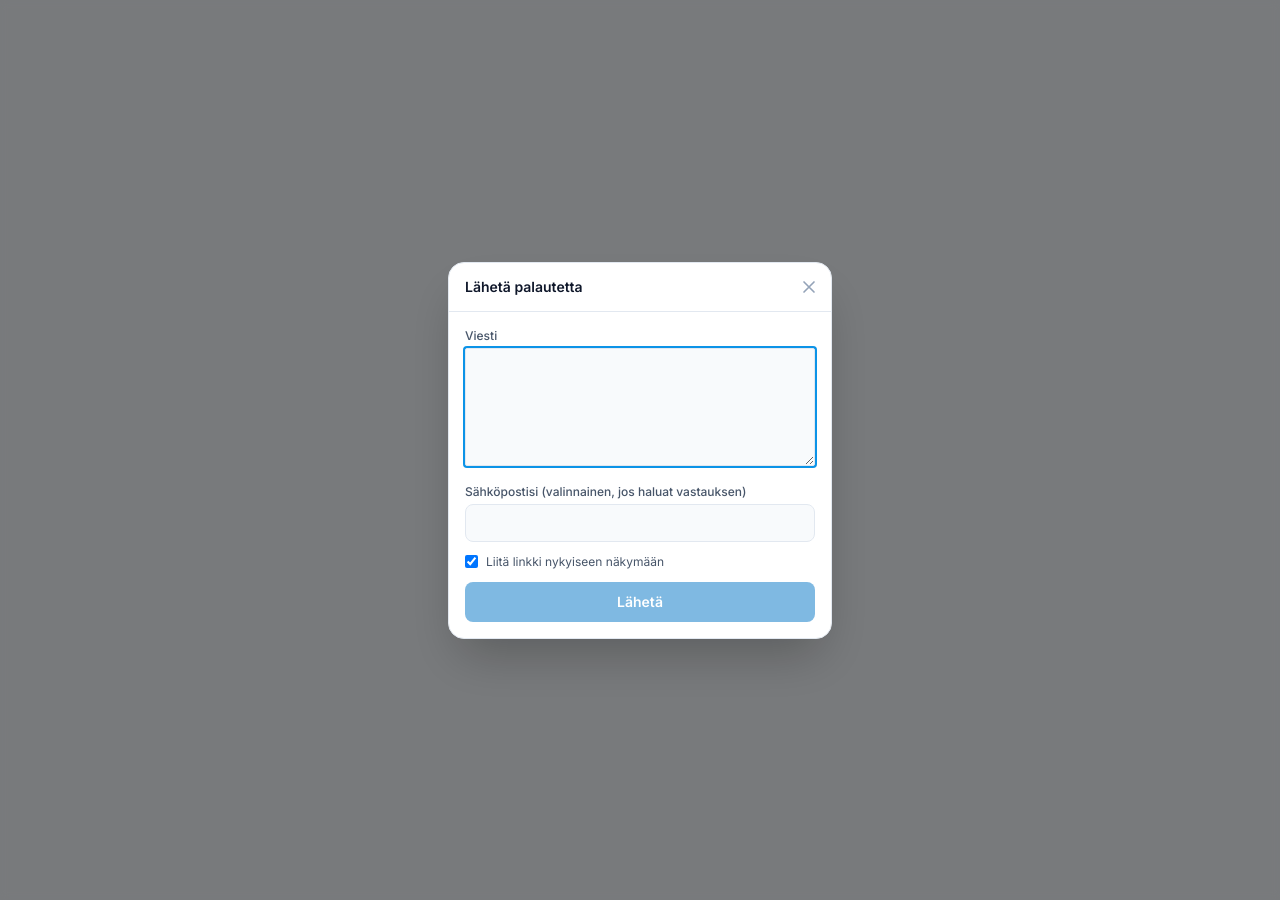
FeedbackModal › sends the message with the page link and the reply address, then thanks
Type "The employment layer looks off" into the text box labelled "Viesti" at (640, 406), box [465, 348, 815, 466]
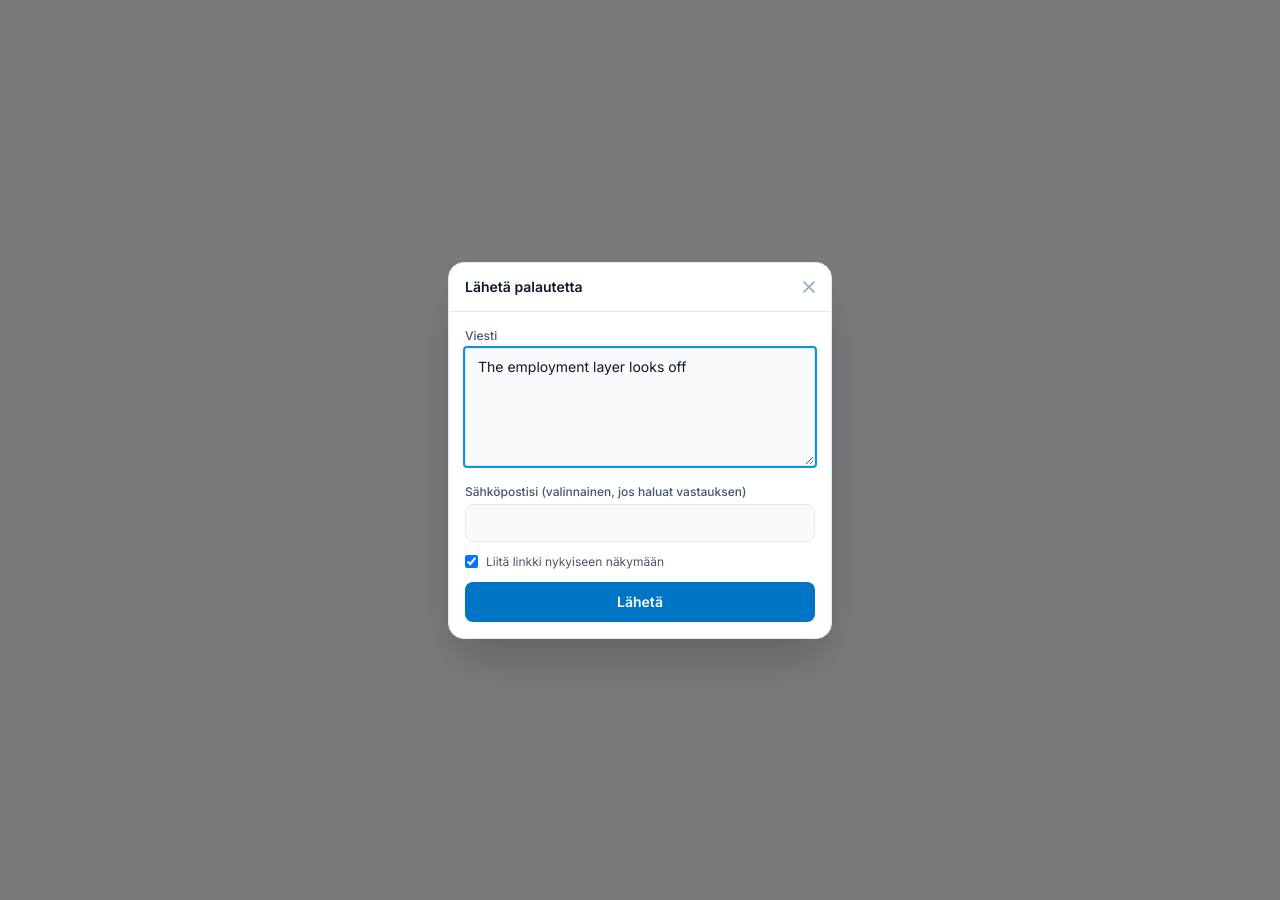
Type "me@example.com" into the field labelled "Sähköpostisi (valinnainen, jos haluat vastauksen)" at (640, 522), box [465, 504, 815, 542]
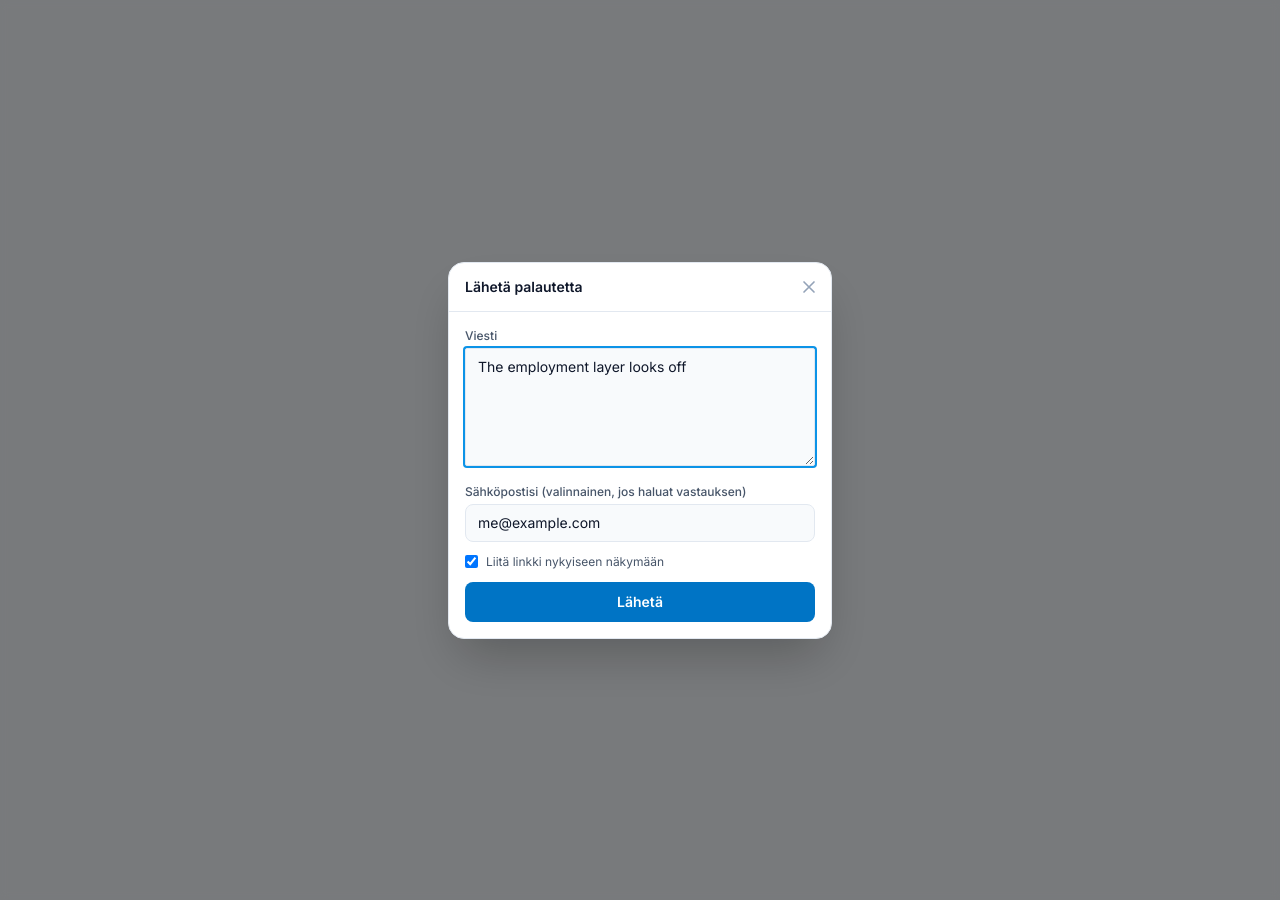
Click the button "Lähetä" at (640, 602), box [465, 582, 815, 622]
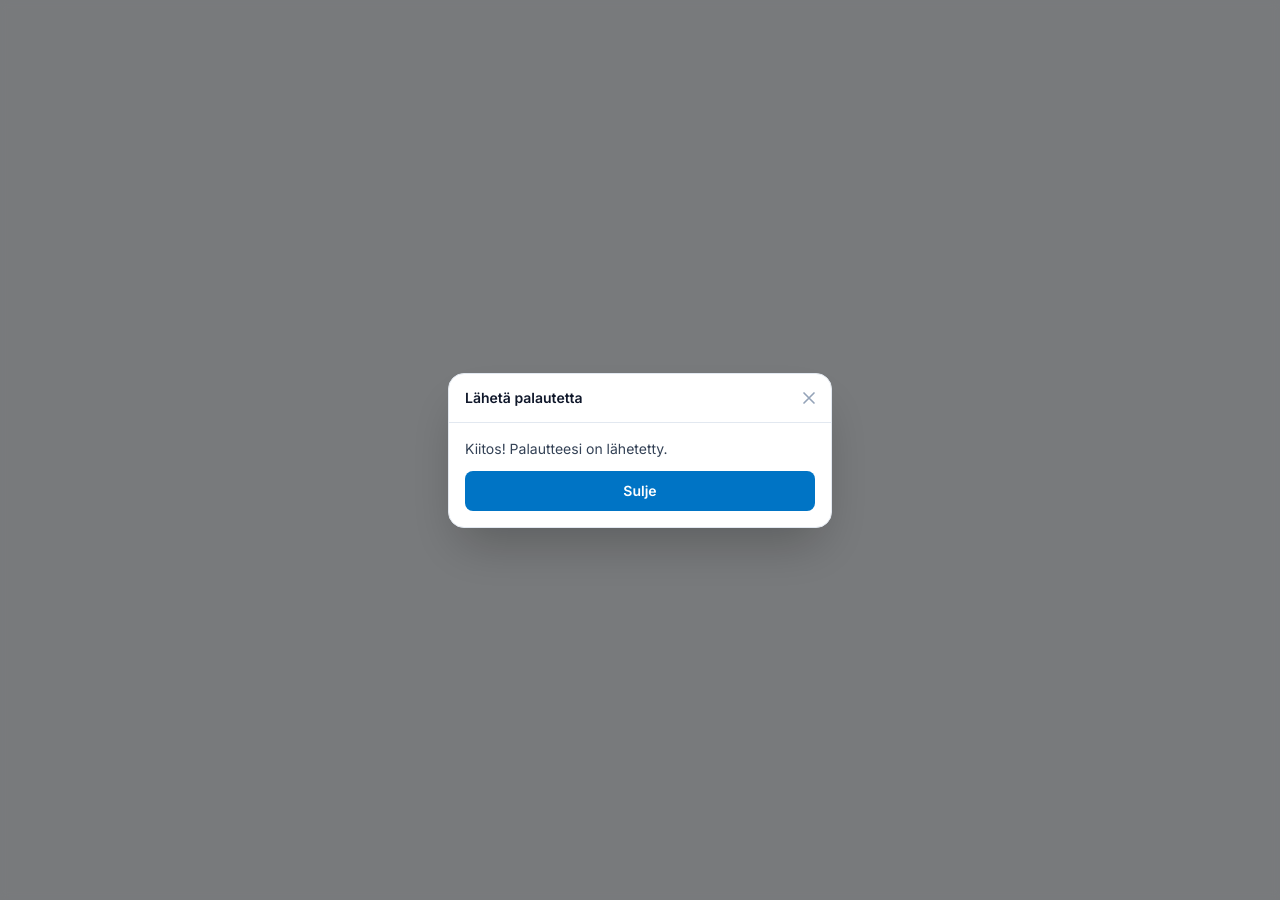
Expected: the text "Kiitos! Palautteesi on lähetetty." is shown, [465, 440, 668, 456]
